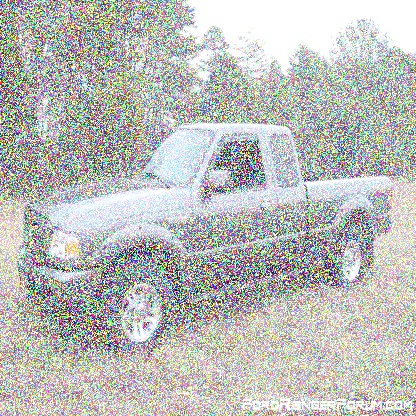Vehicle: (18, 123, 394, 362)
